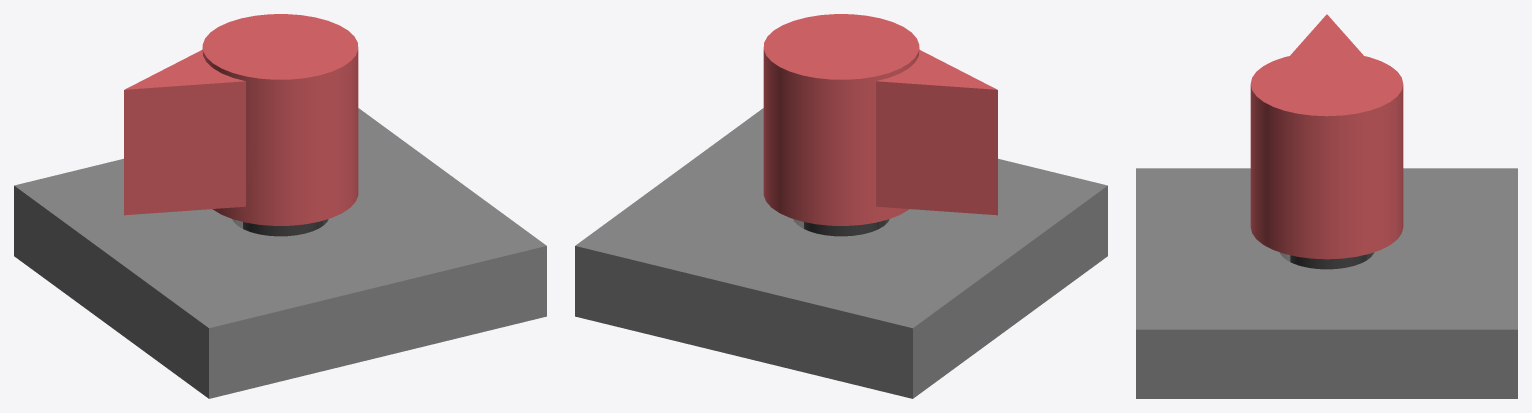
The model's file is bouton tournant 2 v2.glb.
3 renders of one model, left to right at view 1: azimuth 30°, elevation 25°; view 2: azimuth 150°, elevation 25°; view 3: azimuth 270°, elevation 25°, orthographic. The views are drawn at different scales.
Parts seen in each view (by area): view 1: Base Tournant 2, Bouton Tournant 2; view 2: Base Tournant 2, Bouton Tournant 2; view 3: Base Tournant 2, Bouton Tournant 2.
Part boxes in pixels (box(x1,y1,x2,y2)): Base Tournant 2: box(14, 108, 546, 398); Bouton Tournant 2: box(124, 14, 358, 236); Base Tournant 2: box(575, 108, 1107, 398); Bouton Tournant 2: box(763, 14, 997, 236); Base Tournant 2: box(1136, 168, 1517, 398); Bouton Tournant 2: box(1250, 14, 1403, 269).
Bounding box in the file's own units: 0.5 × 0.3387 × 0.5.
